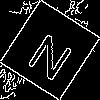N: (25, 24, 80, 83)
